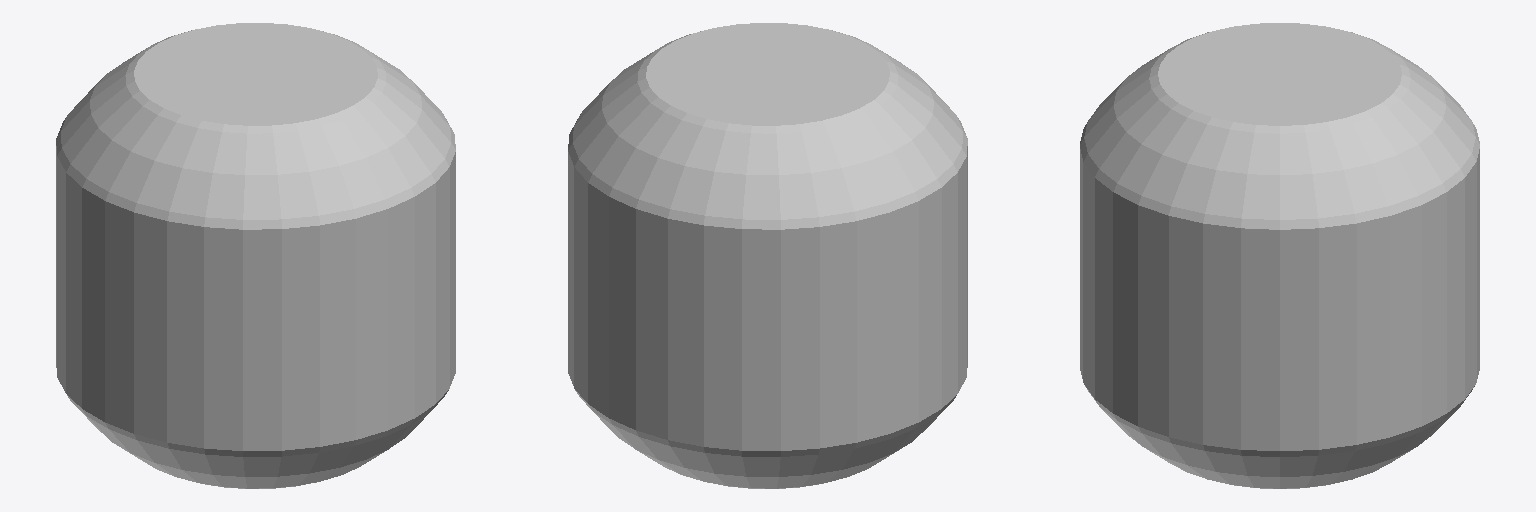
The model's file is Intersection.obj.
3 views of the same model, side by side, from view 1: azimuth 30°, elevation 25°; view 2: azimuth 150°, elevation 25°; view 3: azimuth 270°, elevation 25° (orthographic).
Parts seen in each view (by area): view 1: Sphere; view 2: Sphere; view 3: Sphere.
Part boxes in pixels (left/top/right/bottom): Sphere: left=56, top=23, right=455, bottom=488; Sphere: left=568, top=23, right=967, bottom=488; Sphere: left=1080, top=23, right=1479, bottom=488.
Bounding box in the file's own units: 2 × 2 × 2.